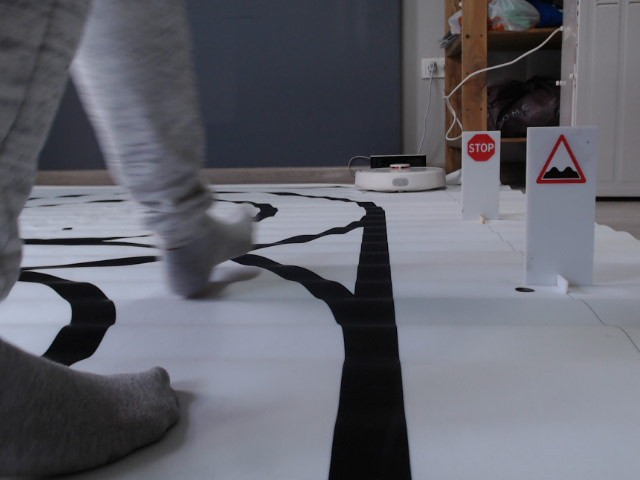Nerov: (534, 133, 587, 186)
Stop: (466, 133, 496, 162)
